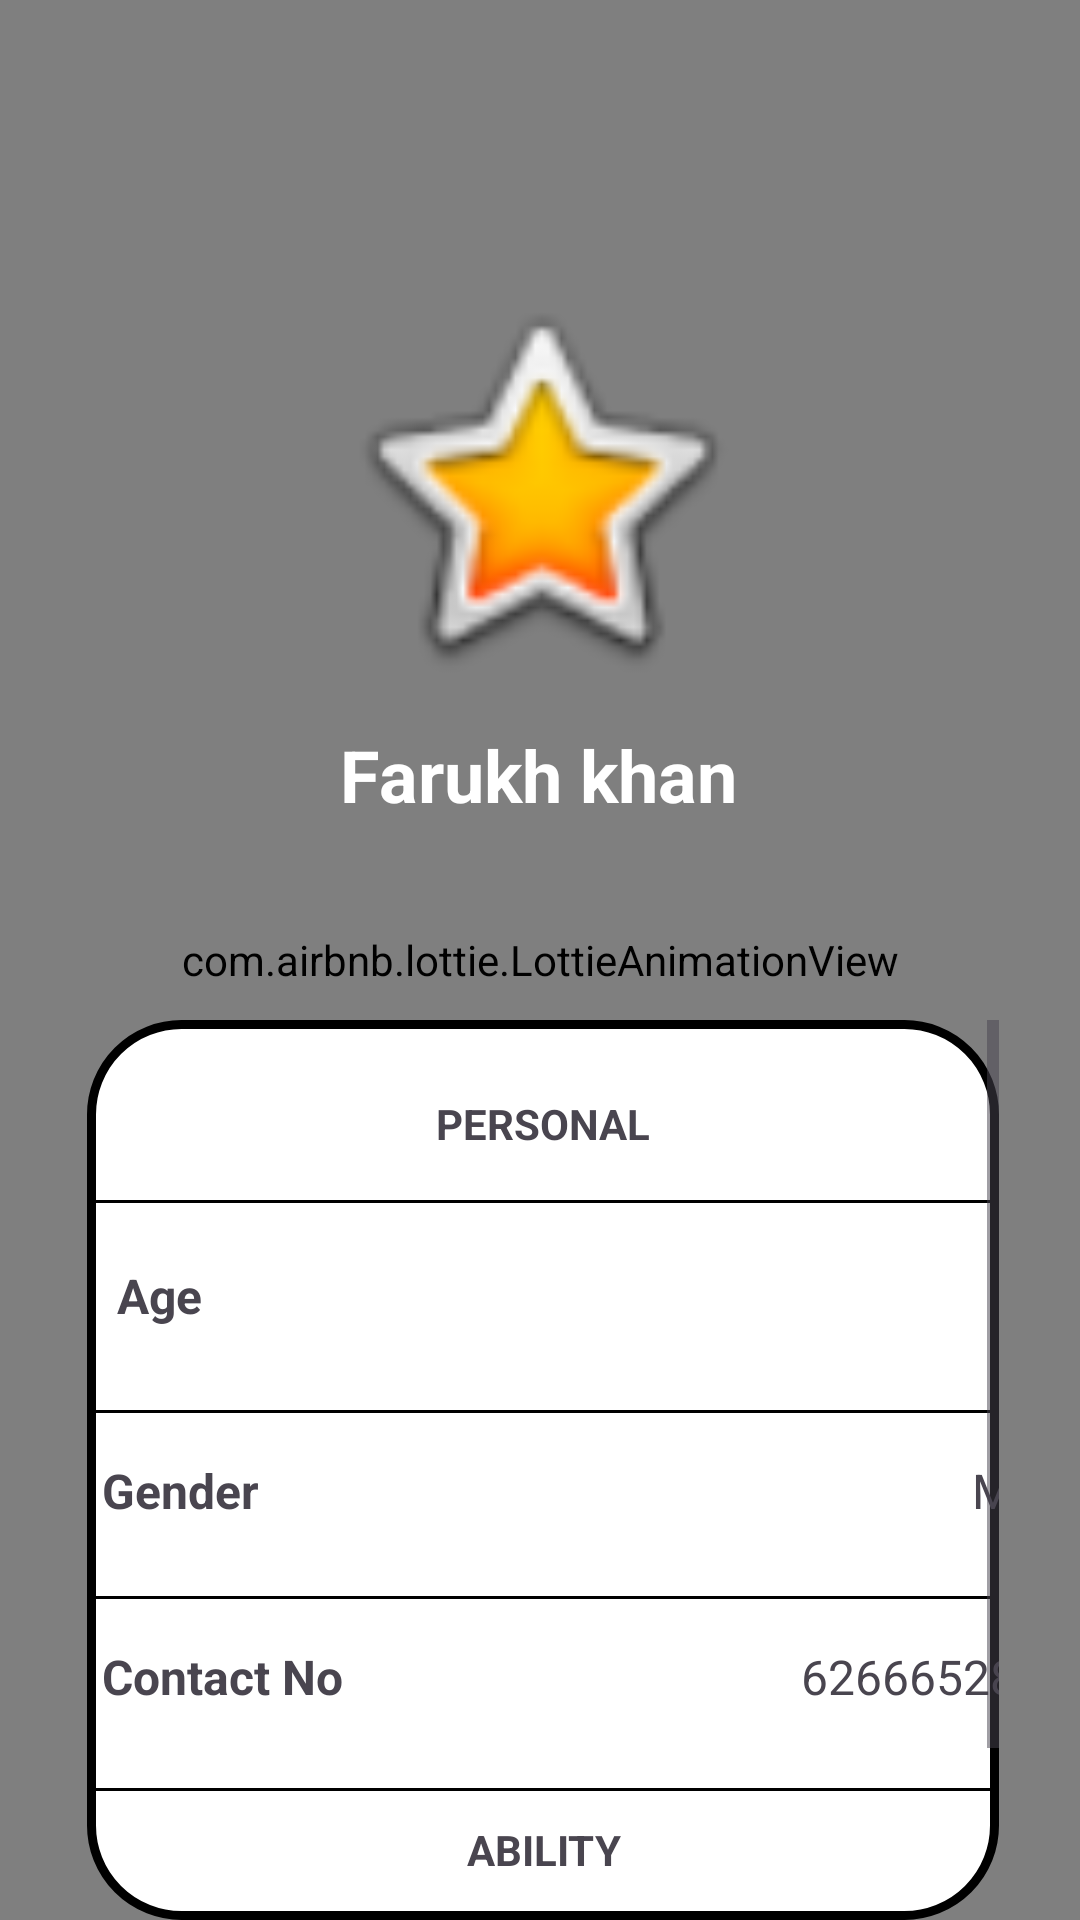

Where icons sit on this 1080px×1920px app screen, as bbox=[x1, y1, x2, y2]:
star on: bbox=[374, 328, 715, 657]
